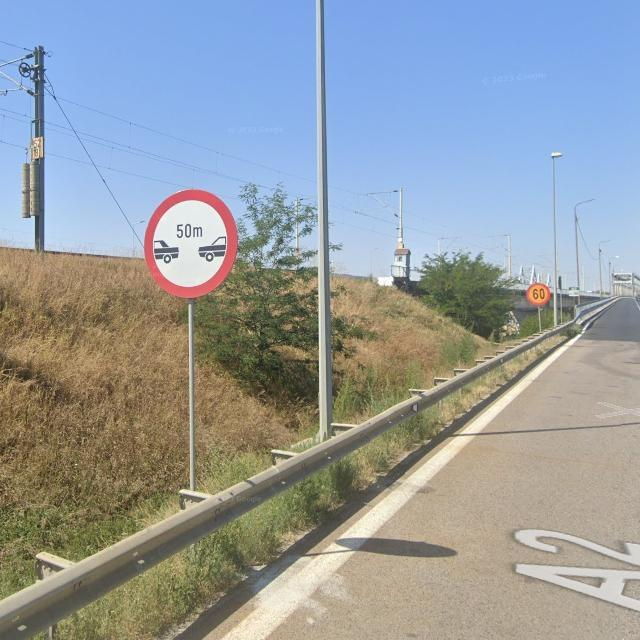forb_speed_over_60: (526, 284, 550, 306)
